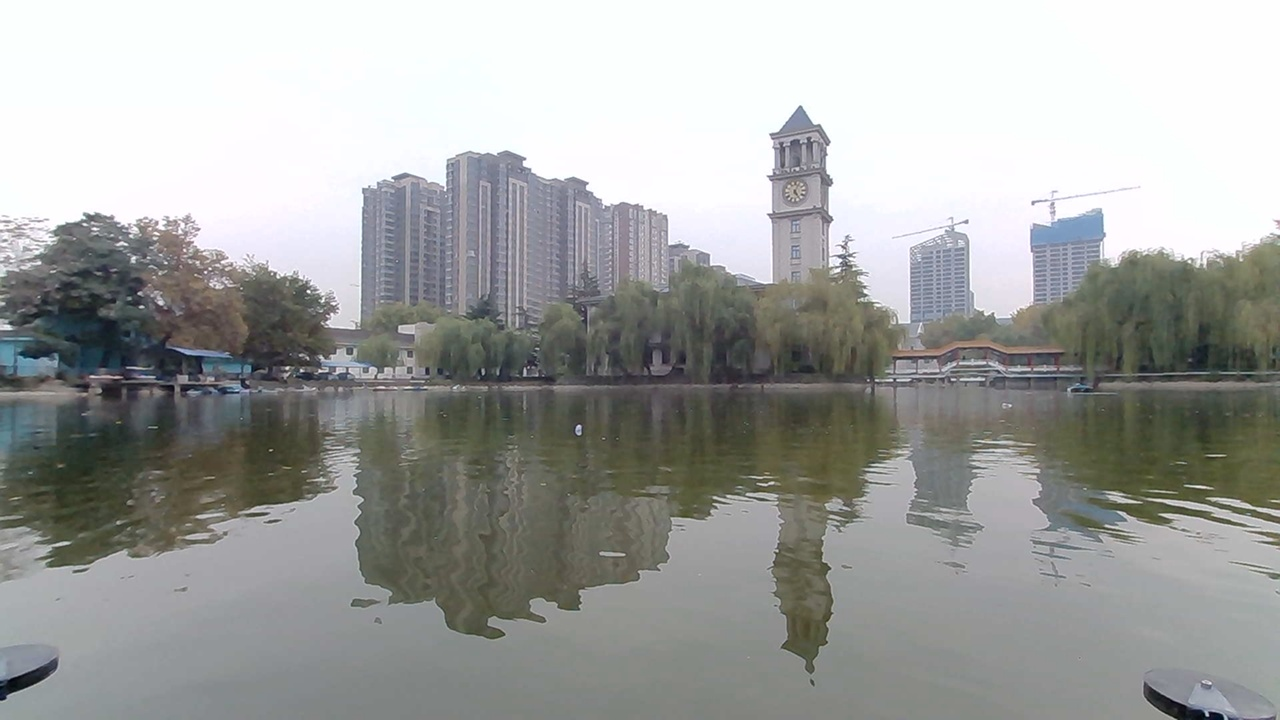bottle: (547, 410, 599, 442), (993, 394, 1025, 413)
